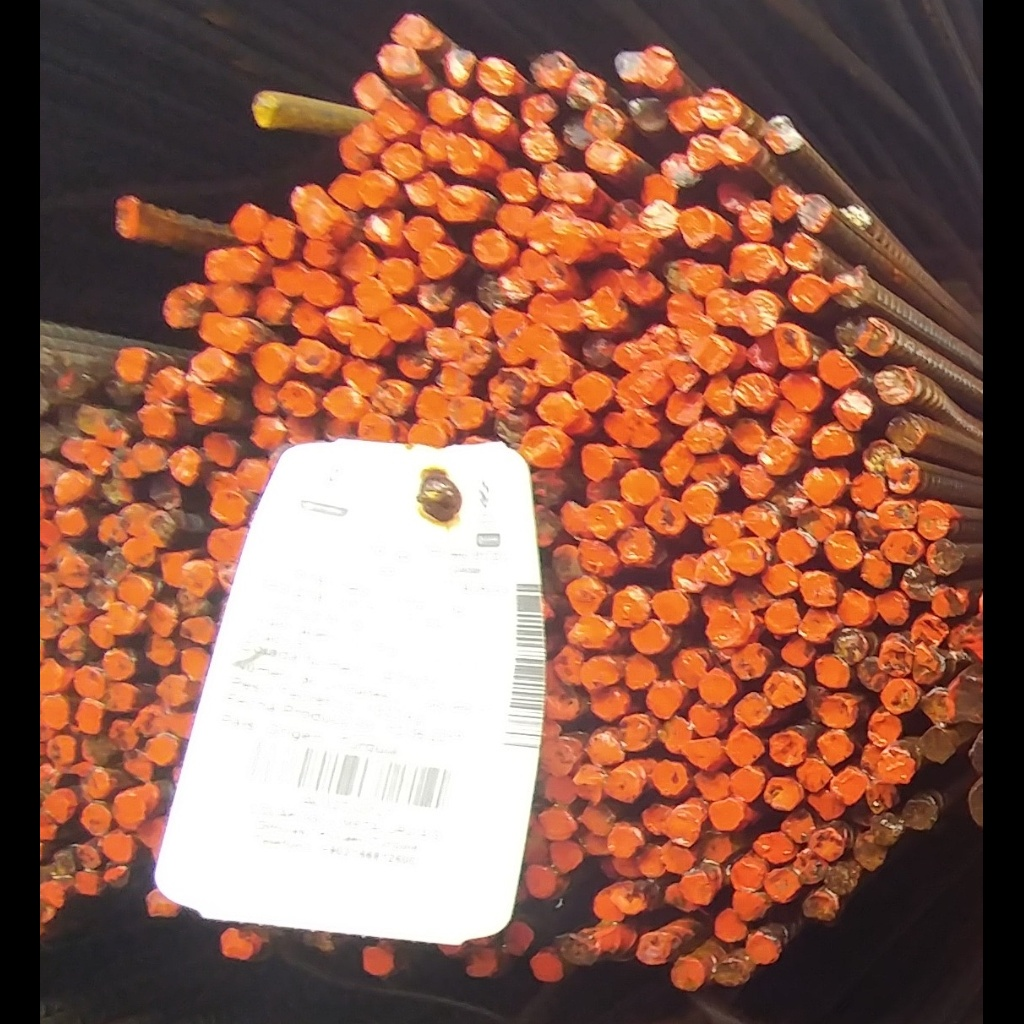dipstick: (201, 314, 251, 350), (390, 15, 441, 48), (522, 429, 564, 468), (700, 87, 739, 128), (780, 372, 821, 411), (833, 389, 872, 429), (439, 186, 481, 223), (692, 337, 735, 373), (376, 43, 420, 78), (163, 288, 201, 328), (579, 540, 619, 578), (948, 677, 981, 723), (377, 97, 414, 138), (582, 291, 621, 329), (679, 205, 715, 246), (818, 350, 859, 386), (428, 89, 468, 125), (776, 322, 808, 367), (790, 276, 830, 312), (569, 616, 612, 649), (619, 223, 651, 267), (566, 578, 603, 616), (735, 374, 773, 411), (531, 51, 570, 87), (145, 367, 185, 402), (589, 687, 629, 722), (765, 115, 802, 152), (700, 670, 737, 707), (618, 527, 656, 563), (887, 414, 923, 452), (622, 270, 662, 304), (190, 382, 222, 424), (704, 375, 736, 417), (366, 210, 402, 247), (338, 243, 375, 279), (768, 671, 805, 707), (621, 468, 658, 504), (825, 531, 860, 569), (643, 47, 675, 88), (740, 201, 772, 242), (477, 57, 512, 94), (630, 98, 667, 133), (499, 168, 536, 203), (646, 499, 683, 534), (740, 297, 775, 334), (783, 232, 818, 269), (405, 217, 443, 251), (520, 93, 559, 126), (651, 591, 690, 624), (538, 392, 577, 425), (661, 154, 701, 186), (683, 485, 715, 525), (685, 421, 726, 452), (673, 652, 708, 688), (727, 731, 763, 766), (800, 572, 836, 607), (662, 444, 692, 486), (918, 728, 954, 763), (586, 140, 623, 174), (473, 98, 510, 132), (384, 144, 421, 178), (252, 346, 286, 383), (490, 371, 524, 408), (55, 470, 92, 504), (728, 543, 765, 577), (805, 469, 839, 506), (766, 598, 799, 636), (875, 370, 913, 403), (672, 555, 704, 594), (798, 193, 830, 232), (448, 135, 479, 175), (327, 307, 362, 342), (770, 731, 805, 766), (573, 374, 608, 409), (874, 591, 909, 626), (569, 72, 603, 108), (294, 338, 330, 372), (735, 693, 771, 727), (819, 729, 853, 765), (879, 749, 915, 783), (879, 641, 913, 677), (731, 418, 765, 454), (329, 173, 362, 210), (519, 129, 557, 161), (232, 204, 264, 242), (764, 778, 802, 810), (581, 444, 613, 482), (355, 71, 386, 110), (538, 810, 577, 841), (642, 202, 677, 236), (540, 743, 575, 777), (765, 869, 800, 903), (800, 608, 834, 643), (868, 714, 903, 748), (881, 679, 916, 713), (851, 474, 885, 509), (586, 105, 622, 138), (361, 171, 394, 207), (279, 384, 315, 417), (250, 416, 286, 449), (668, 810, 701, 846), (666, 392, 702, 425), (883, 531, 919, 564), (772, 401, 805, 437), (380, 306, 417, 338), (743, 507, 780, 539), (863, 440, 900, 472), (553, 223, 584, 261), (709, 609, 740, 647), (580, 659, 619, 689), (264, 218, 293, 258), (355, 280, 389, 314), (344, 362, 377, 397), (630, 621, 665, 654), (659, 719, 692, 754), (732, 767, 765, 802), (733, 577, 768, 610), (535, 353, 570, 386), (928, 541, 963, 574), (688, 134, 720, 170), (718, 181, 754, 213), (887, 459, 919, 495), (692, 462, 733, 490), (812, 431, 853, 459), (733, 891, 770, 922), (707, 289, 738, 326), (211, 285, 249, 315), (586, 735, 624, 765), (755, 833, 794, 862), (291, 302, 324, 336), (612, 594, 646, 627), (733, 644, 766, 678), (901, 566, 934, 600), (740, 466, 773, 500), (396, 346, 431, 378), (652, 762, 687, 794), (764, 564, 799, 596), (299, 202, 330, 238), (169, 448, 200, 484), (839, 589, 870, 625), (443, 50, 473, 87), (799, 510, 836, 540), (859, 319, 889, 356), (637, 932, 670, 965), (421, 126, 453, 160), (381, 258, 413, 292), (455, 304, 489, 336), (203, 432, 235, 466), (501, 922, 533, 956), (817, 655, 849, 689), (778, 530, 810, 564), (495, 409, 529, 441), (720, 128, 751, 163), (621, 716, 652, 751), (351, 326, 387, 356), (211, 493, 247, 523), (562, 500, 589, 540), (918, 504, 948, 540), (762, 438, 792, 474), (684, 739, 721, 768), (862, 551, 891, 588), (833, 272, 861, 310), (474, 230, 506, 263), (427, 327, 459, 360), (140, 405, 172, 438), (220, 928, 253, 960), (580, 802, 613, 834), (799, 759, 831, 792), (833, 770, 865, 803), (338, 137, 369, 171), (459, 337, 490, 371), (435, 365, 469, 396), (671, 960, 705, 991), (855, 834, 886, 868), (669, 96, 699, 131), (605, 771, 640, 801), (748, 335, 778, 370), (323, 388, 359, 417), (145, 510, 174, 546), (703, 520, 739, 549), (771, 184, 797, 224), (610, 887, 647, 915), (553, 545, 581, 582), (911, 617, 948, 645), (538, 162, 565, 200), (407, 173, 439, 205), (533, 472, 565, 504), (643, 325, 675, 357), (226, 248, 257, 281), (305, 272, 336, 305), (257, 288, 288, 321), (238, 459, 269, 492), (45, 790, 76, 823), (81, 803, 112, 836), (144, 733, 177, 764), (812, 829, 843, 862), (501, 268, 531, 302), (523, 326, 557, 356), (776, 482, 806, 516), (476, 274, 505, 309), (193, 350, 228, 379), (526, 864, 555, 899), (695, 771, 730, 800), (678, 315, 713, 344), (406, 422, 445, 448), (528, 216, 556, 252), (183, 560, 211, 596), (608, 828, 644, 856), (590, 505, 618, 541), (745, 247, 773, 283), (421, 246, 452, 278), (97, 416, 128, 448), (73, 667, 105, 698), (101, 832, 133, 863), (796, 852, 827, 884), (582, 336, 614, 367), (561, 173, 594, 203), (113, 795, 143, 828), (710, 801, 744, 830), (782, 639, 816, 668), (836, 628, 865, 662), (419, 283, 454, 311), (181, 647, 209, 682), (810, 792, 845, 820), (116, 196, 138, 240), (879, 503, 916, 529), (150, 477, 181, 508), (552, 842, 583, 873), (650, 688, 681, 719), (668, 360, 699, 391), (273, 265, 305, 295), (145, 635, 175, 667), (716, 910, 746, 942), (690, 706, 720, 738), (820, 697, 850, 729), (903, 799, 935, 829), (626, 656, 655, 689), (641, 372, 670, 405), (641, 175, 675, 203), (690, 265, 724, 293), (857, 658, 885, 692), (359, 415, 394, 442), (59, 626, 86, 661), (253, 91, 277, 130), (575, 766, 601, 802), (556, 649, 582, 685), (668, 295, 704, 321), (353, 121, 383, 152), (418, 390, 449, 420), (58, 556, 88, 587), (664, 844, 694, 875), (700, 833, 731, 863), (868, 782, 899, 812), (499, 206, 531, 235), (450, 398, 482, 427), (123, 539, 155, 568), (699, 554, 731, 583), (292, 184, 329, 209), (117, 349, 145, 382), (41, 696, 69, 729), (530, 954, 563, 982), (919, 690, 947, 723), (563, 937, 597, 964), (611, 196, 641, 226), (81, 769, 111, 799), (731, 862, 761, 892), (539, 261, 568, 292), (375, 383, 404, 414), (58, 367, 87, 398), (466, 948, 497, 977), (913, 645, 936, 684), (549, 301, 581, 329), (181, 616, 213, 644), (632, 415, 660, 447), (492, 311, 525, 338), (76, 702, 103, 735), (932, 591, 965, 618), (499, 330, 525, 364), (58, 590, 84, 624), (667, 260, 693, 294), (119, 577, 149, 606), (363, 946, 393, 975), (528, 294, 556, 325), (133, 444, 164, 472), (102, 652, 133, 680), (157, 676, 185, 707), (545, 776, 576, 804), (593, 894, 624, 922), (785, 811, 813, 842), (714, 961, 750, 985), (615, 343, 647, 370), (603, 412, 630, 444), (148, 604, 174, 637), (522, 250, 551, 279), (98, 515, 127, 544), (873, 814, 902, 843), (47, 735, 75, 765), (147, 890, 177, 918), (681, 876, 711, 904), (535, 506, 556, 546), (747, 937, 778, 964), (101, 478, 133, 504), (639, 845, 665, 877), (106, 382, 142, 405), (105, 683, 133, 712), (615, 52, 642, 82), (136, 710, 166, 737), (124, 752, 151, 782), (642, 805, 669, 835), (285, 418, 316, 444), (121, 505, 147, 536), (83, 734, 109, 765), (702, 585, 733, 611), (564, 114, 587, 149), (83, 443, 108, 475), (324, 418, 357, 442), (545, 696, 578, 720), (836, 318, 858, 354), (304, 239, 332, 267), (111, 449, 138, 478), (160, 554, 183, 588), (109, 604, 135, 634), (665, 886, 695, 912), (619, 373, 640, 410), (55, 510, 86, 535), (827, 868, 855, 895), (102, 552, 128, 581), (804, 893, 833, 919), (89, 618, 113, 649), (590, 269, 622, 292), (139, 818, 165, 846), (856, 510, 880, 540), (41, 660, 63, 692), (110, 721, 136, 748), (253, 383, 277, 412), (179, 592, 209, 615), (586, 482, 620, 502), (205, 249, 226, 281), (56, 404, 77, 435), (208, 528, 229, 559), (77, 405, 98, 435), (89, 582, 111, 610), (206, 471, 236, 491), (77, 844, 100, 870), (304, 932, 333, 952), (229, 528, 246, 561), (863, 744, 878, 781), (75, 872, 98, 896), (104, 865, 129, 887), (614, 857, 640, 878), (41, 573, 57, 606), (41, 882, 63, 906), (61, 438, 81, 464), (41, 517, 59, 544), (583, 836, 608, 855), (41, 427, 57, 456), (53, 853, 74, 875), (730, 245, 742, 282), (41, 765, 58, 790), (219, 564, 234, 590), (41, 615, 54, 640)
